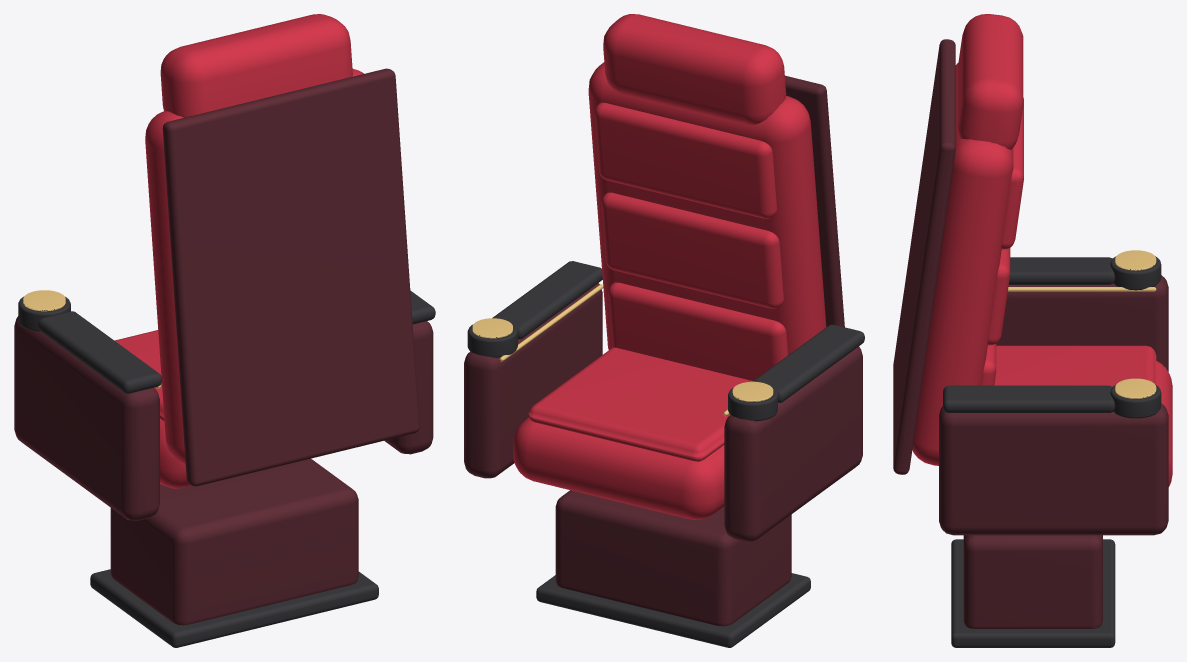
Rendered from seat.glb.
3 views of the same model, side by side, from view 1: azimuth 30°, elevation 25°; view 2: azimuth 150°, elevation 25°; view 3: azimuth 270°, elevation 25° (orthographic). The views are drawn at different scales.
Visible parts, largest first — view 1: seat; view 2: seat; view 3: seat.
Boxes of the visible parts, box(x1,y1,x2,y2) form: seat: box(14, 14, 435, 647); seat: box(464, 14, 864, 647); seat: box(893, 14, 1172, 647).
Bounding box in the file's own units: 0.864 × 1.49 × 0.6812.
